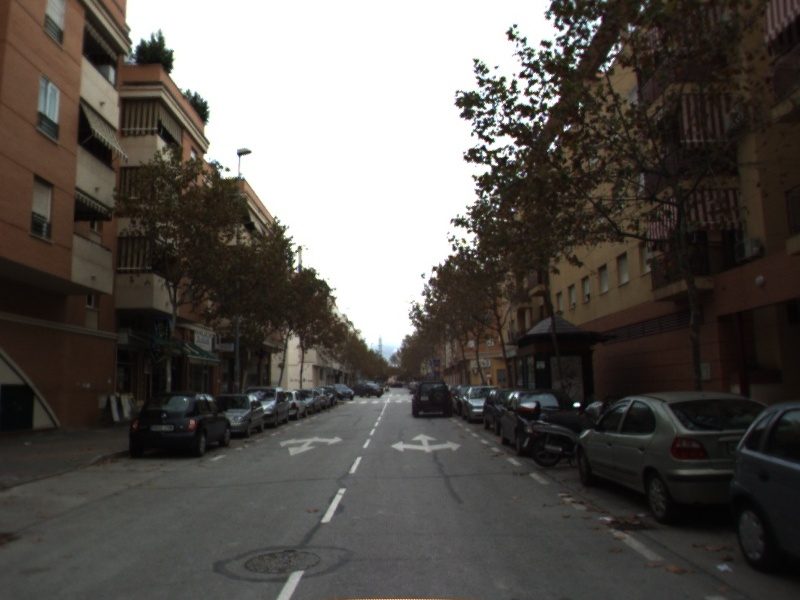STRAIGHT_LEFT_RIGHT: (389, 431, 464, 454)
